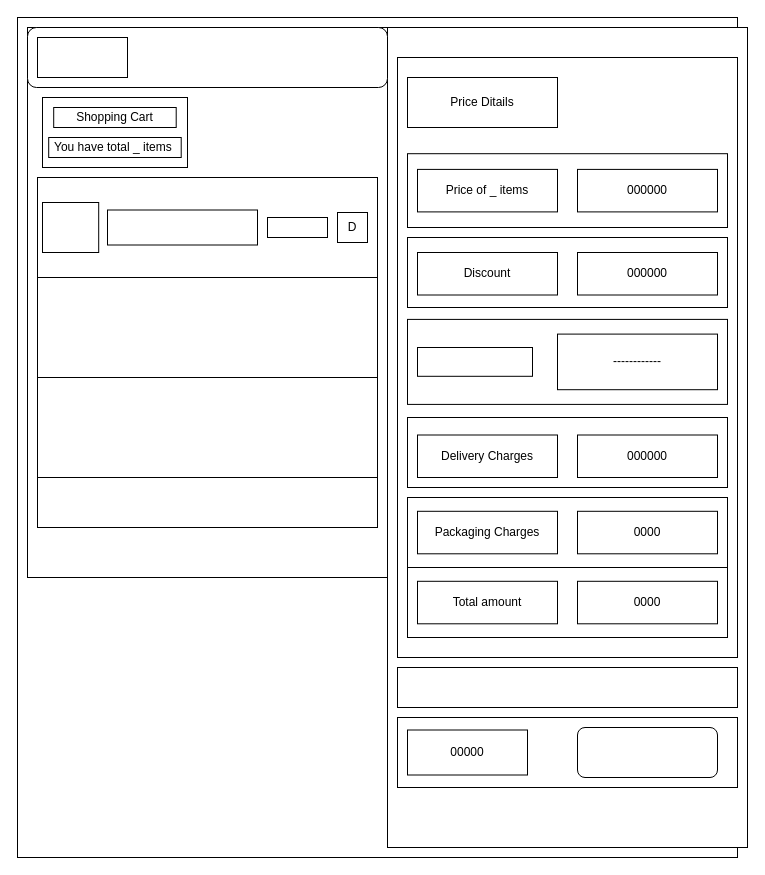
The diagram is 765 pixels wide and 875 high, and some of its shapes have lost their labels. The centre of each missing label's shape, as x and y in pixels:
Address: the point at 474,361
Back: the point at 82,57
Img: the point at 70,227
Name: the point at 182,227
Place Order: the point at 647,752
price: the point at 297,227
You will save 0000 on this orde: the point at 567,687
